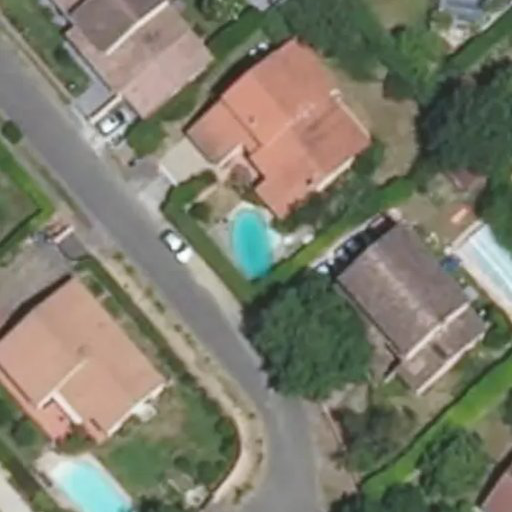pool: (211, 240, 292, 243)
